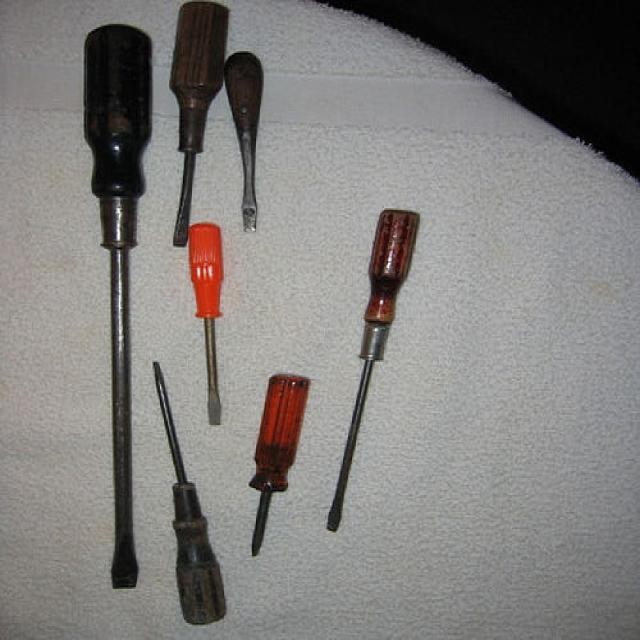screw driver: (316, 192, 429, 552), (140, 349, 238, 640), (240, 365, 322, 568), (168, 212, 241, 417)
